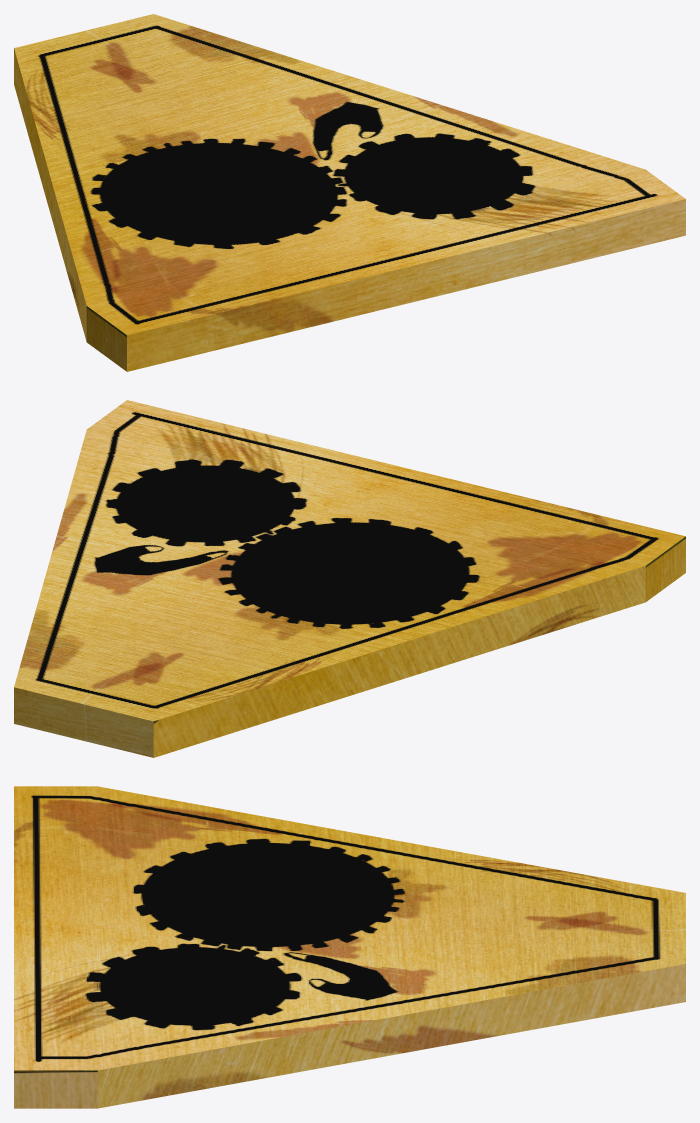
File: Warning_Sign.FBX
The picture shows the model from 3 angles, top to bottom: view 1: azimuth 30°, elevation 25°; view 2: azimuth 150°, elevation 25°; view 3: azimuth 270°, elevation 25°; orthographic projection. The views are drawn at different scales.
Parts seen in each view (by area): view 1: Box001; view 2: Box001; view 3: Box001.
Part boxes in pixels (x1=…): Box001: x1=14, y1=14, x2=685, y2=371; Box001: x1=14, y1=400, x2=685, y2=757; Box001: x1=14, y1=786, x2=685, y2=1108.
Size of the model in its own units: 80 by 5 by 80.
